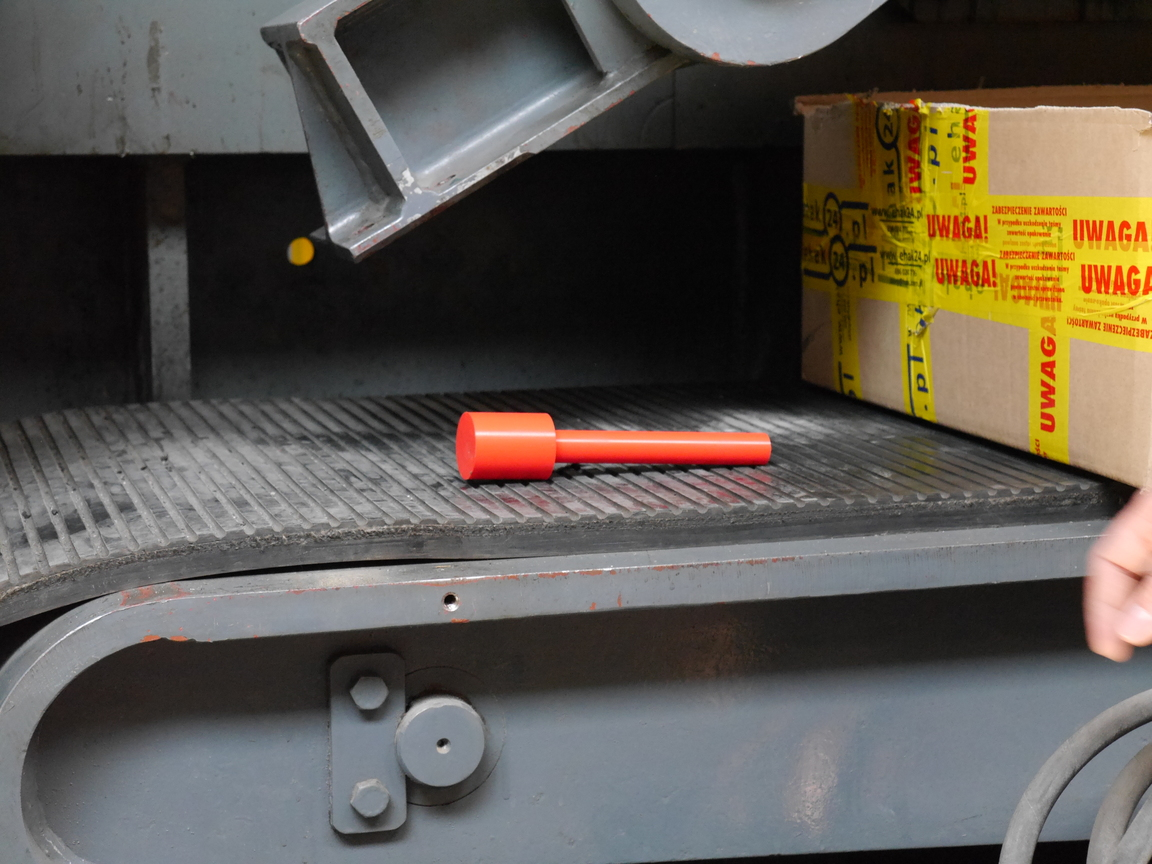cargo_g: (453, 410, 775, 485)
